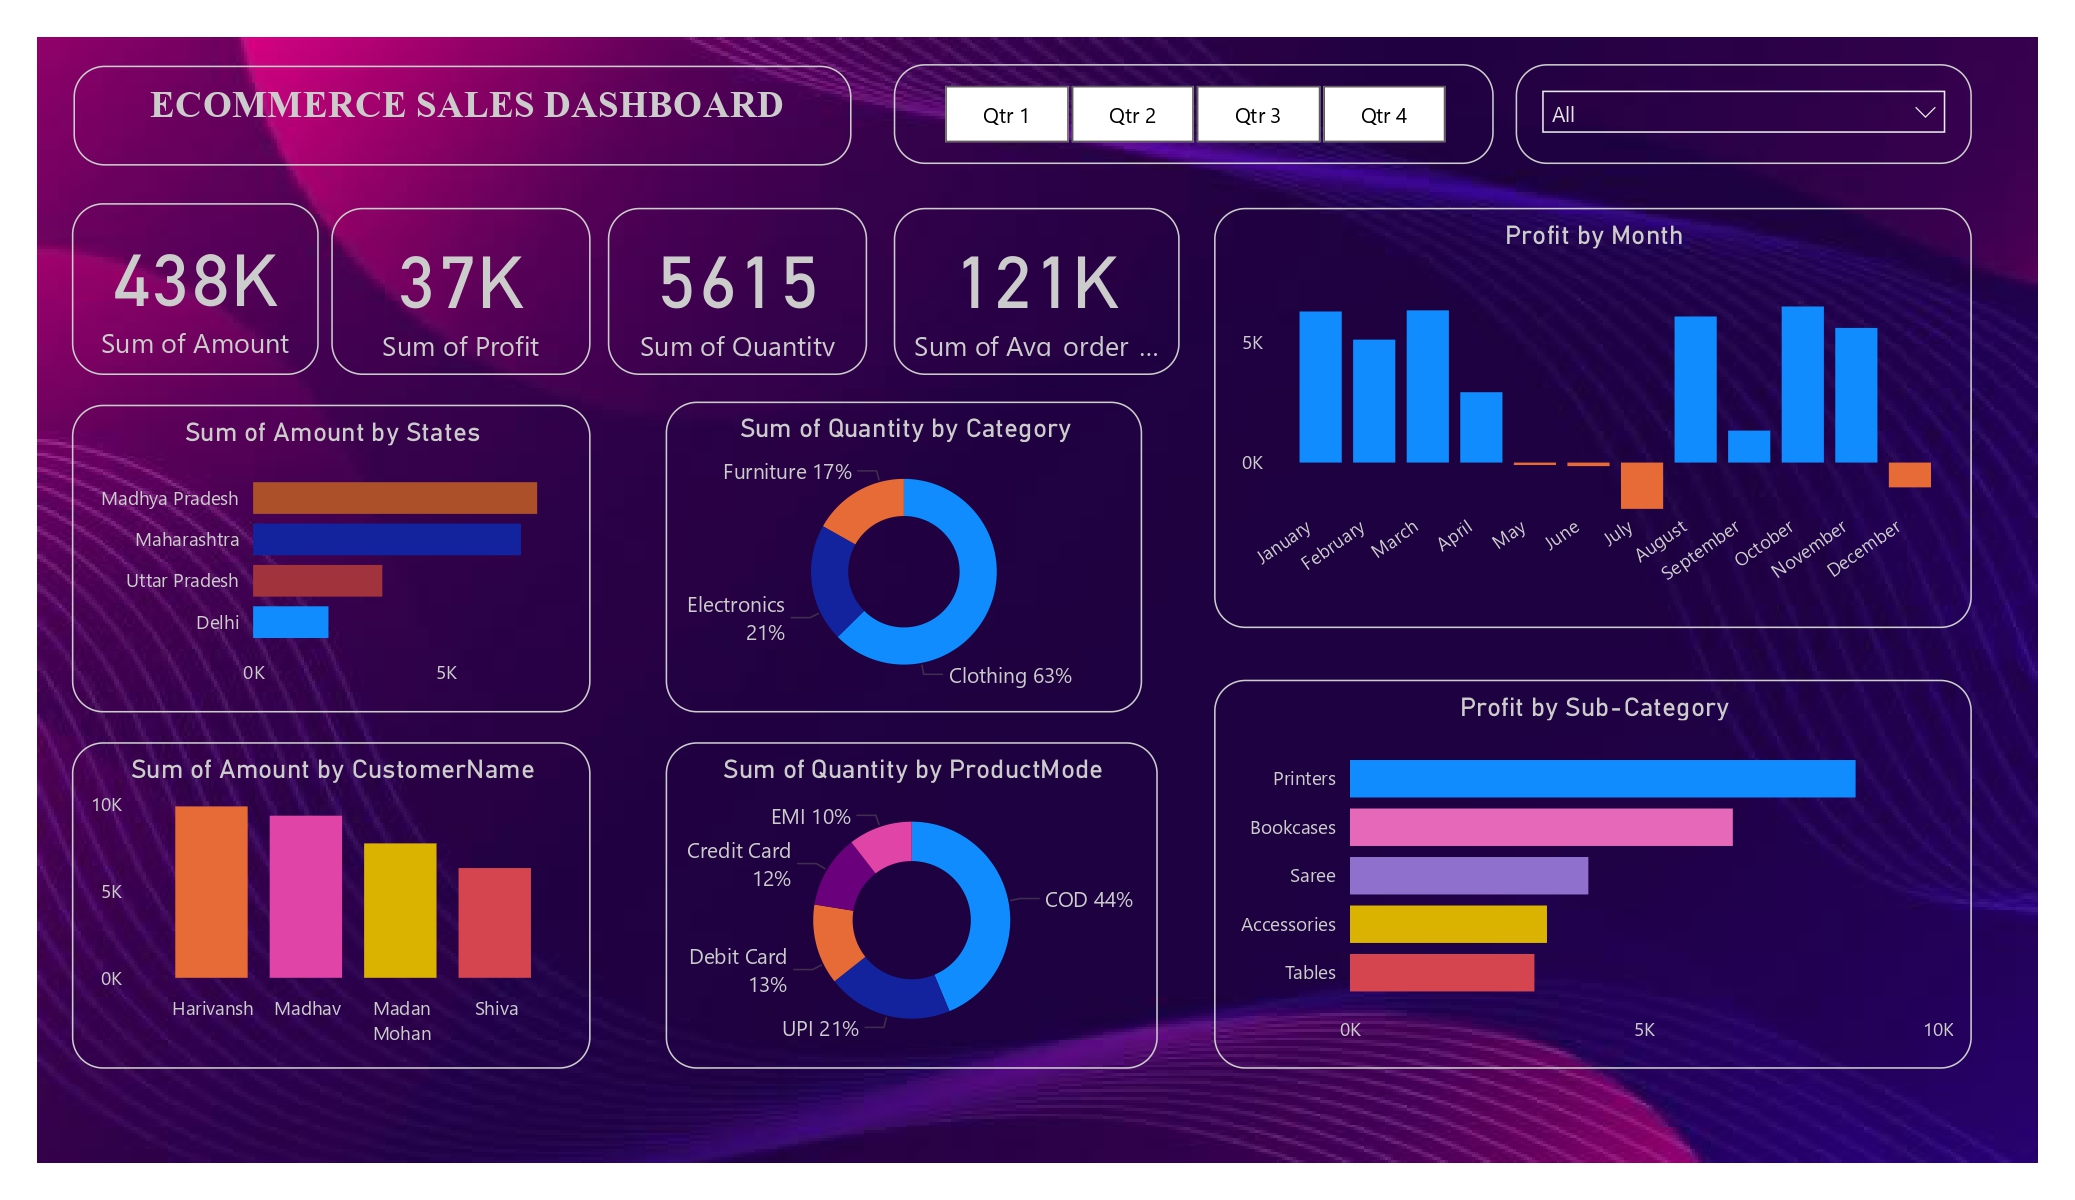

This screenshot's page, from the dashboard's own definition file:
{"tool":"powerbi","page":{"name":"Page 1","canvas":[1280,720],"ordinal":0},"visuals":[{"type":"textbox","box":[22.6,17.9,498.8,64.3],"z":0},{"type":"columnChart","title":"Profit by Month","fields":{"Y":["Sum(Details.Profit)"],"Category":["Orders.Order Date.Variation.Date Hierarchy.Month"]},"box":[753.1,108.6,485.2,269.1],"z":1000},{"type":"barChart","title":"Profit by Sub-Category","fields":{"Category":["Details.Sub-Category"],"Y":["Sum(Details.Profit)"]},"box":[753.1,411.1,485.2,249.4],"z":2000},{"type":"donutChart","title":"Sum of Quantity by Category","fields":{"Category":["Details.Category"],"Y":["Sum(Details.Quantity)"]},"box":[402.5,233.3,304.9,198.8],"z":3000},{"type":"donutChart","title":"Sum of Quantity by ProductMode","fields":{"Category":["Details.PaymentMode"],"Y":["Sum(Details.Quantity)"]},"box":[402.5,450.6,314.8,209.9],"z":4000},{"type":"card","fields":{"Values":["Sum(Details.Profit)"]},"box":[187.7,108.6,166.7,107.4],"z":5000},{"type":"card","fields":{"Values":["Sum(Details.Amount)"]},"box":[22.2,106.2,158,109.9],"z":6000},{"type":"card","fields":{"Values":["Sum(Details.Quantity)"]},"box":[365.4,108.6,165.4,107.4],"z":7000},{"type":"card","fields":{"Values":["Sum(Details.Avg_order_value)"]},"box":[548.1,108.6,182.7,107.4],"z":8000},{"type":"barChart","title":"Sum of Amount by States","fields":{"Y":["Sum(Details.Profit)"],"Category":["Orders.State"]},"box":[22.2,234.6,332.1,197.5],"z":9000},{"type":"columnChart","title":"Sum of Amount by CustomerName ","fields":{"Category":["Orders.CustomerName"],"Y":["Sum(Details.Amount)"]},"box":[22.2,450.6,332.1,209.9],"z":10000},{"type":"slicer","fields":{"Values":["Orders.Order Date.Variation.Date Hierarchy.Quarter"]},"box":[548.1,17.3,384,64.2],"z":11000},{"type":"slicer","fields":{"Values":["Orders.State"]},"box":[945.7,17.3,292.6,64.2],"z":12000}]}

Visuals, with their boxes on the page's 1280x720 design canvas (x1, y1, x2, y2). These are canvas units, not pixel positions in the 2075x1200 screenshot, which may show the page scaled, cropped or inside an application window:
textbox: [x1=23, y1=18, x2=521, y2=82]
"Profit by Month" columnChart: [x1=753, y1=109, x2=1238, y2=378]
"Profit by Sub-Category" barChart: [x1=753, y1=411, x2=1238, y2=660]
"Sum of Quantity by Category" donutChart: [x1=402, y1=233, x2=707, y2=432]
"Sum of Quantity by ProductMode" donutChart: [x1=402, y1=451, x2=717, y2=660]
card - Sum(Details.Profit): [x1=188, y1=109, x2=354, y2=216]
card - Sum(Details.Amount): [x1=22, y1=106, x2=180, y2=216]
card - Sum(Details.Quantity): [x1=365, y1=109, x2=531, y2=216]
card - Sum(Details.Avg_order_value): [x1=548, y1=109, x2=731, y2=216]
"Sum of Amount by States" barChart: [x1=22, y1=235, x2=354, y2=432]
"Sum of Amount by CustomerName " columnChart: [x1=22, y1=451, x2=354, y2=660]
slicer - Orders.Order Date.Variation.Date Hierarchy.Quarter: [x1=548, y1=17, x2=932, y2=82]
slicer - Orders.State: [x1=946, y1=17, x2=1238, y2=82]
